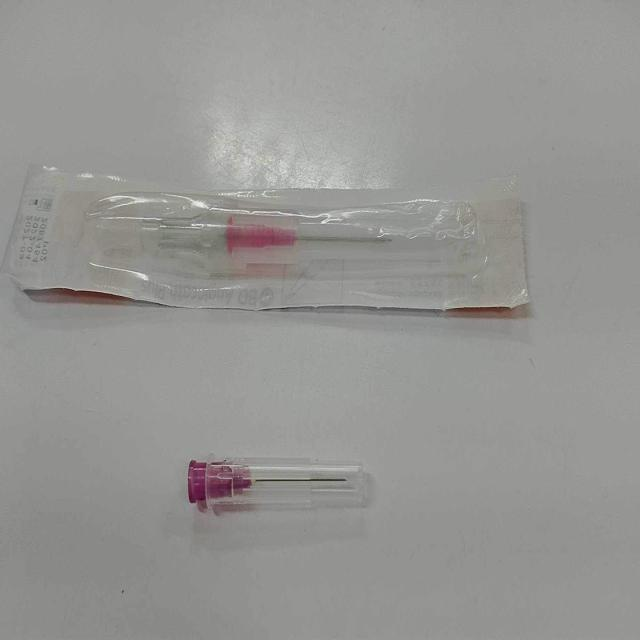General: (3, 160, 531, 316), (187, 456, 255, 508)
Sharps: (188, 456, 368, 513)
